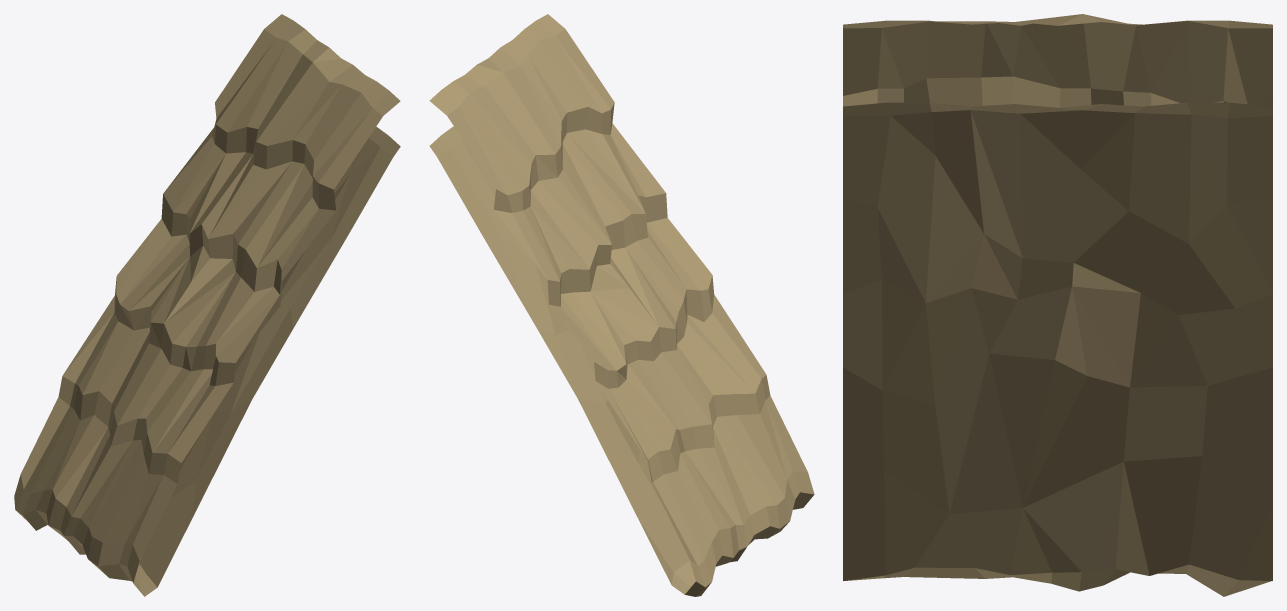
File: rpgpp_ag_roof_02b_6x5x3_half.fbx
The picture shows the model from 3 angles, left to right: view 1: azimuth 30°, elevation 25°; view 2: azimuth 150°, elevation 25°; view 3: azimuth 270°, elevation 25°; orthographic projection. The views are drawn at different scales.
Visible parts, largest first — view 1: rpgpp_ag_roof_02b_6x5x3_half; view 2: rpgpp_ag_roof_02b_6x5x3_half; view 3: rpgpp_ag_roof_02b_6x5x3_half.
Boxes of the visible parts, left/top/right/bottom form: rpgpp_ag_roof_02b_6x5x3_half: left=14, top=14, right=400, bottom=596; rpgpp_ag_roof_02b_6x5x3_half: left=429, top=14, right=814, bottom=596; rpgpp_ag_roof_02b_6x5x3_half: left=843, top=14, right=1272, bottom=596.
Bounding box in the file's own units: 3.97 × 6.2 × 3.
